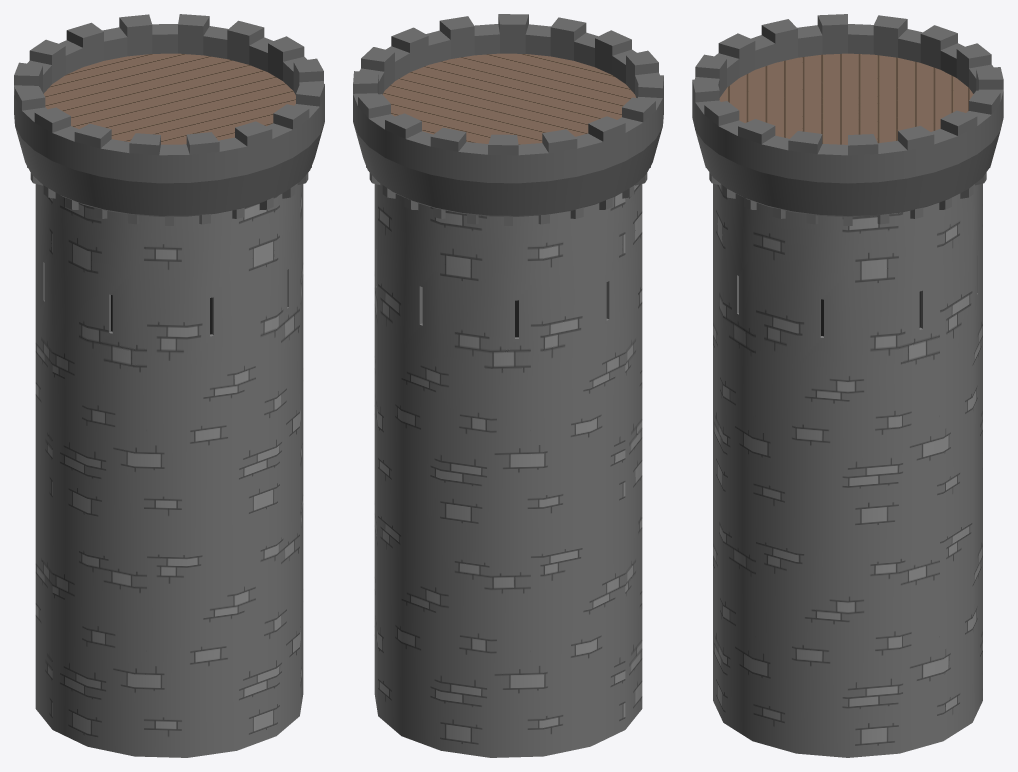
Rendered from Tower_05.fbx.
3 views of the same model, side by side, from view 1: azimuth 30°, elevation 25°; view 2: azimuth 150°, elevation 25°; view 3: azimuth 270°, elevation 25° (orthographic).
Visible parts, largest first — view 1: group175_pCube974; view 2: group175_pCube974; view 3: group175_pCube974.
Part boxes in pixels (box(x1,y1,x2,y2)): group175_pCube974: box(14, 14, 324, 757); group175_pCube974: box(353, 14, 663, 757); group175_pCube974: box(692, 14, 1003, 757).
Size of the model in its own units: 8.93 by 19.66 by 8.93.
